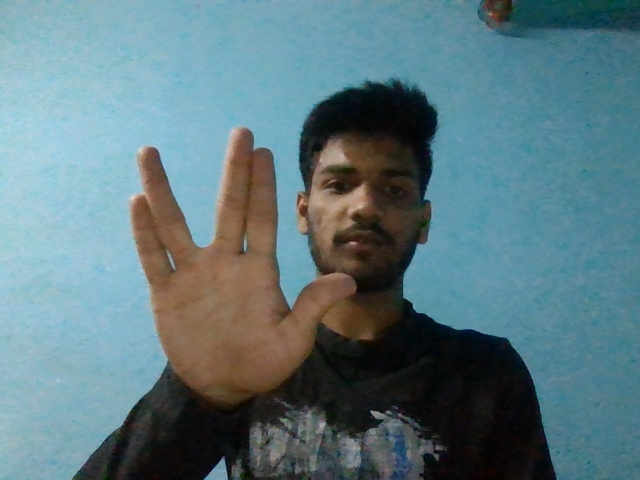Live Long: (129, 128, 358, 394)
